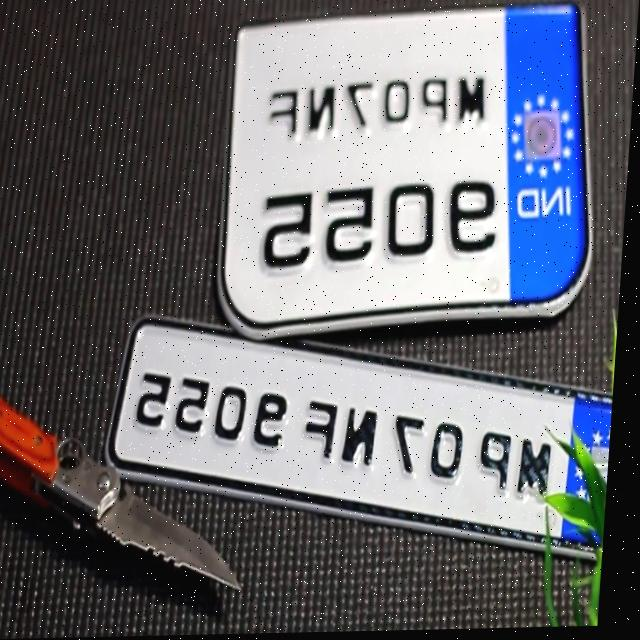plate: (107, 309, 623, 565), (218, 5, 608, 338)
